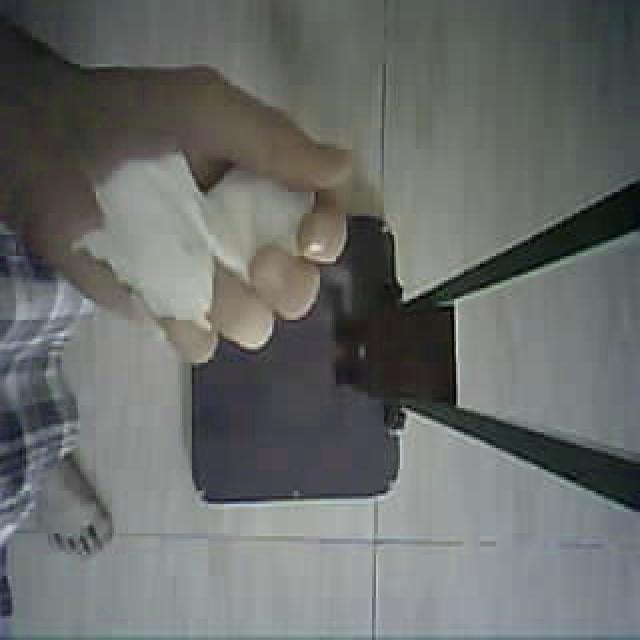Paper: (34, 78, 392, 380)
